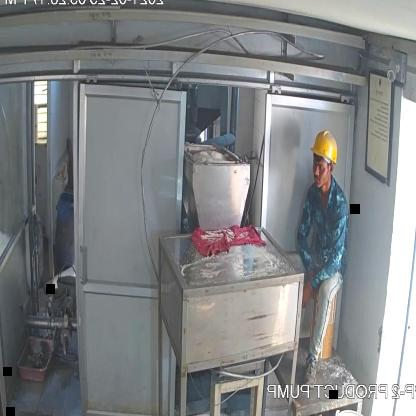helmet: (308, 126, 338, 176)
